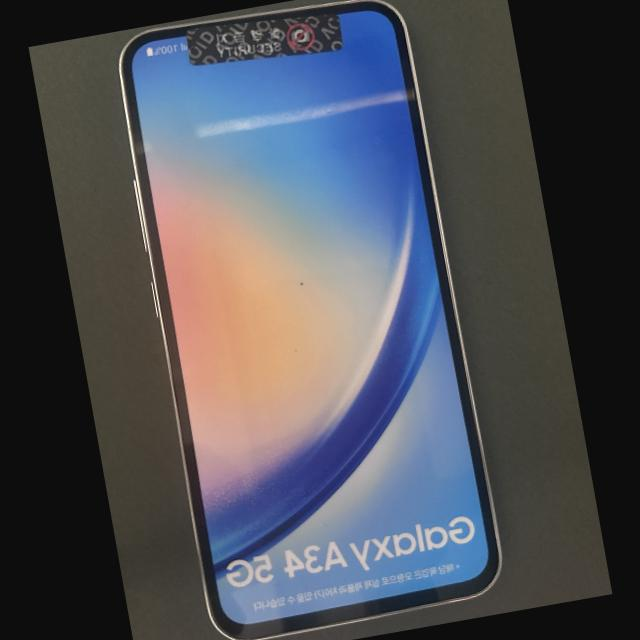phone: (119, 1, 499, 639)
sticker: (185, 10, 342, 66)
